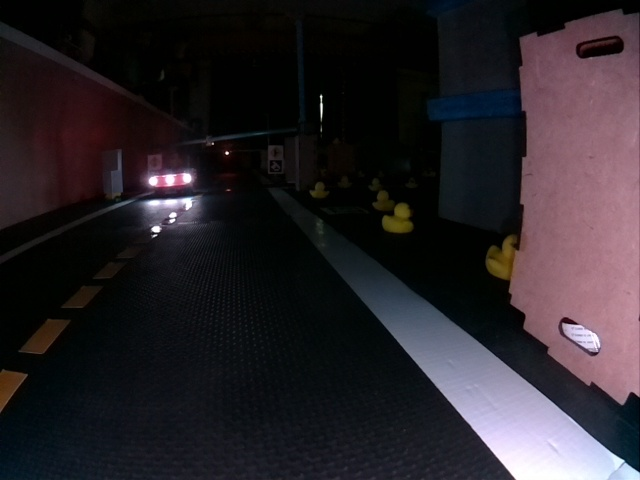Duckie: (486, 235, 518, 277), (382, 203, 409, 230), (374, 191, 392, 210), (310, 187, 327, 199), (339, 176, 350, 186), (406, 178, 416, 188), (368, 179, 379, 188)
Duckiebot: (149, 166, 197, 194)
Intersection sign: (268, 145, 281, 157)
QR code: (320, 206, 366, 215), (268, 160, 283, 174)
Traffic light: (206, 138, 214, 145), (226, 147, 231, 156)
